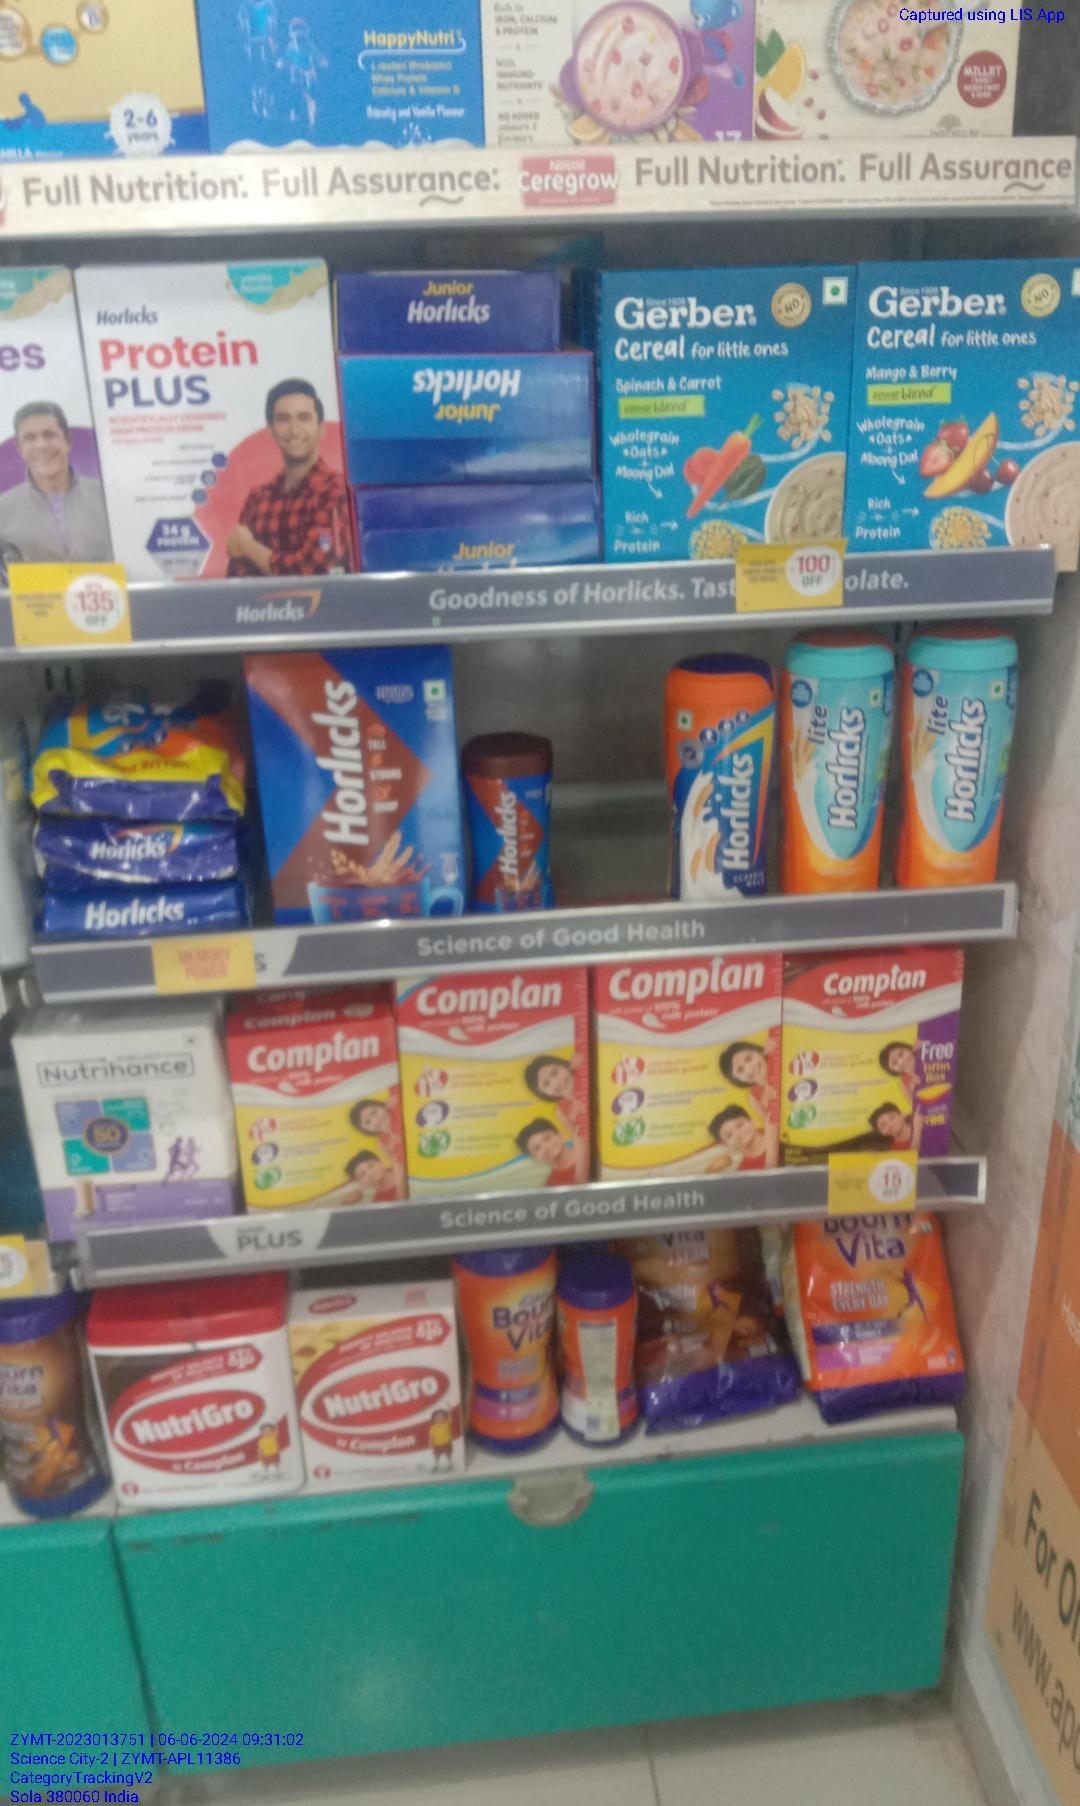BOURN_VITA_500_G_JAR: (463, 1248, 555, 1453)
BOURN_VITA_500_G_POUCH: (804, 1211, 971, 1428)
COMPLAN_CHOCOLATE_500_GMS_PACK: (791, 955, 958, 1166)
COMPLAN_CREAMY_CLASSIC_500_G_PACK: (404, 970, 588, 1197)
COMPLAN_KESAR_BADAM_200_GMS_PACK: (235, 1019, 400, 1212)
COMPLAN_KESAR_BADAM_500_GMS_PACK: (595, 952, 786, 1177)
HORLICKS_LITE_REGULAR_MALT_500_GM_JAR: (903, 627, 1016, 887), (786, 631, 888, 902)
HORLICK_CHOCOLATE_200_G_JAR: (468, 729, 554, 918)
HORLICK_CHOCOLATE_500_G_PACK: (256, 648, 460, 922)
HORLICK_CLASSIC_MALT_500_G_JAR: (667, 648, 775, 913)
